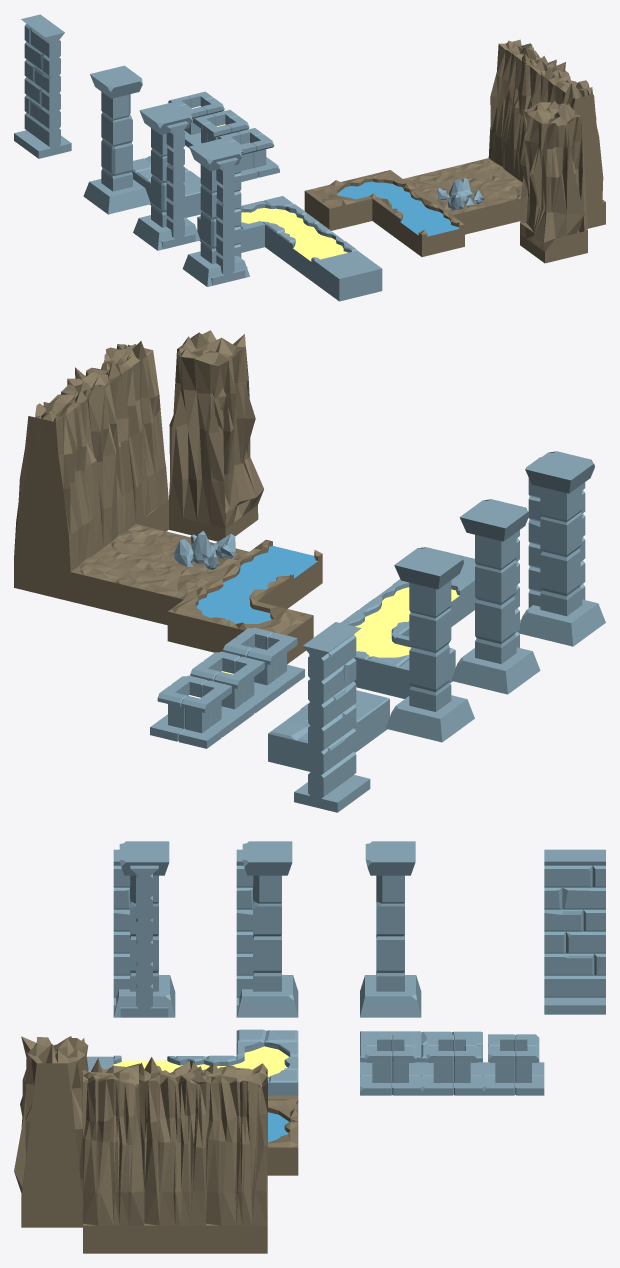
The model's file is dungeon.fbx.
3 renders of one model, top to bottom at view 1: azimuth 30°, elevation 25°; view 2: azimuth 150°, elevation 25°; view 3: azimuth 270°, elevation 25°, orthographic. The views are drawn at different scales.
Visible parts, largest first — view 1: Dirt_Edge, D_WallCorner, D_WallColumn, D_Column, D_Wall, Dirt_Wall, Dirt_Wall3, EmtpyFloor, WaterEdge, Water3Cross, Dirt_Wall2, Rocks (+14 smaller); view 2: Dirt_Edge, Dirt_Wall, D_WallCorner, D_WallColumn, D_Column, D_Wall, Dirt_Wall3, Dirt_Wall2, FountainMagic, Dirt_Floor2, WaterTurn, Dirt_Floor (+14 smaller); view 3: Dirt_Edge, Dirt_Wall3, Dirt_Wall2, Dirt_Wall, D_Wall, D_WallColumn, D_WallCorner, D_Column, FountainLava, FountainMagic, Fountain, LavaEnd (+6 smaller).
Part boxes in pixels (x1=…): Dirt_Edge: x1=520, y1=101, x2=587, y2=263; D_WallCorner: x1=182, y1=138, x2=249, y2=286; D_WallColumn: x1=133, y1=102, x2=200, y2=250; D_Column: x1=83, y1=65, x2=150, y2=214; D_Wall: x1=14, y1=14, x2=71, y2=158; Dirt_Wall: x1=488, y1=39, x2=541, y2=175; Dirt_Wall3: x1=547, y1=74, x2=605, y2=228; EmtpyFloor: x1=314, y1=250, x2=382, y2=301; WaterEdge: x1=304, y1=180, x2=372, y2=230; Water3Cross: x1=397, y1=206, x2=464, y2=256; Dirt_Wall2: x1=513, y1=56, x2=569, y2=182; Rocks: x1=428, y1=178, x2=495, y2=234; Dirt_Edge: x1=169, y1=330, x2=263, y2=541; Dirt_Wall: x1=14, y1=392, x2=103, y2=601; D_WallCorner: x1=517, y1=451, x2=605, y2=646; D_WallColumn: x1=451, y1=499, x2=540, y2=694; D_Column: x1=386, y1=547, x2=474, y2=742; D_Wall: x1=294, y1=622, x2=370, y2=812; Dirt_Wall3: x1=94, y1=341, x2=168, y2=531; Dirt_Wall2: x1=60, y1=360, x2=135, y2=547; FountainMagic: x1=150, y1=675, x2=239, y2=748; Dirt_Floor2: x1=70, y1=548, x2=159, y2=615; WaterTurn: x1=167, y1=587, x2=256, y2=652; Dirt_Floor: x1=127, y1=562, x2=216, y2=625; Dirt_Edge: x1=14, y1=1036, x2=88, y2=1227; Dirt_Wall3: x1=82, y1=1058, x2=144, y2=1253; Dirt_Wall2: x1=144, y1=1057, x2=206, y2=1253; Dirt_Wall: x1=205, y1=1063, x2=267, y2=1253; D_Wall: x1=544, y1=849, x2=605, y2=1014; D_WallColumn: x1=236, y1=841, x2=298, y2=1017; D_WallCorner: x1=113, y1=841, x2=175, y2=1017; D_Column: x1=360, y1=841, x2=421, y2=1017; FountainLava: x1=421, y1=1034, x2=482, y2=1095; FountainMagic: x1=483, y1=1034, x2=544, y2=1095; Fountain: x1=360, y1=1034, x2=421, y2=1095; LavaEnd: x1=236, y1=1029, x2=298, y2=1060.
Bounding box in the file's own units: 1924 × 648 × 1805.
